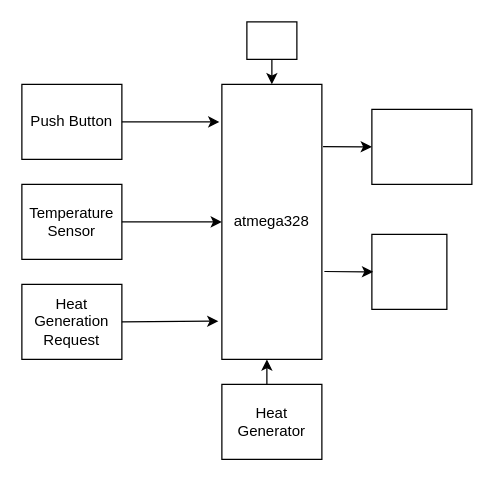
This 494x481 diagram has some shape labels left out. The shapes that lost their labels are listed below. From the top down, each one's box as (x1, y1, x2, y2) in pixels, then its label:
(246, 21, 297, 59): Supply
(371, 108, 472, 184): LCD Display
(371, 233, 447, 309): LED
